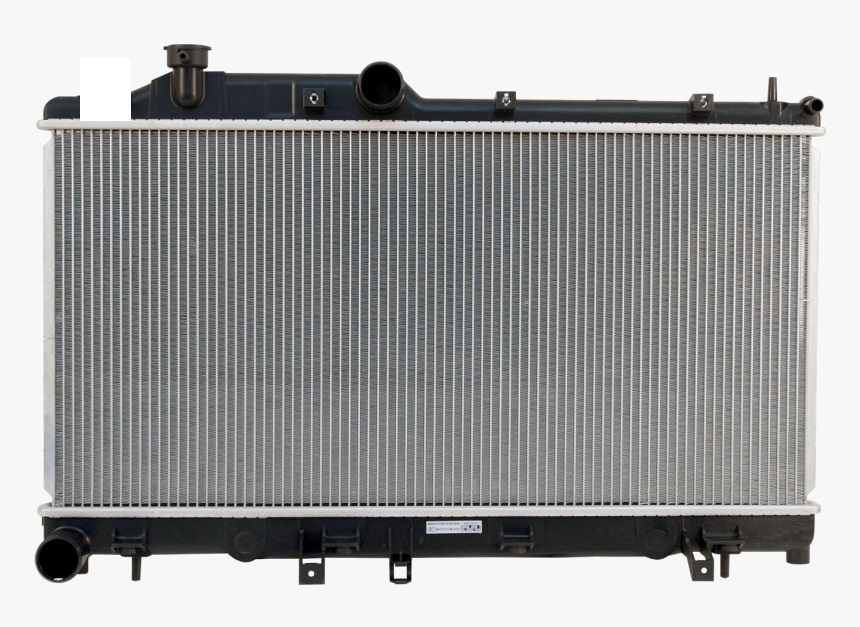c10: (230, 524, 262, 559)
c11: (295, 525, 365, 585)
c12: (387, 521, 416, 585)
c13: (496, 520, 536, 556)
c14: (679, 525, 743, 581)
c2: (162, 42, 211, 108)
c3: (300, 84, 328, 113)
c4: (357, 59, 411, 110)
c5: (494, 89, 519, 113)
c6: (690, 90, 717, 117)
c7: (765, 76, 825, 122)
c8: (29, 530, 93, 586)
c9: (110, 525, 150, 581)
